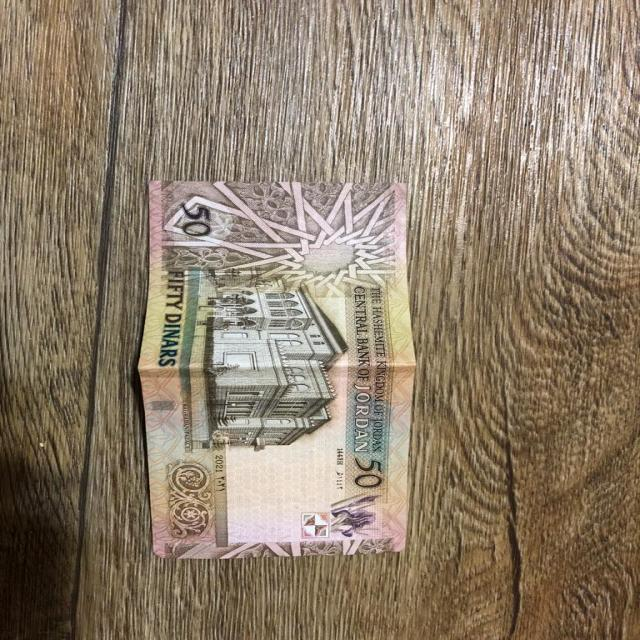50-dinar: (140, 181, 412, 556)
